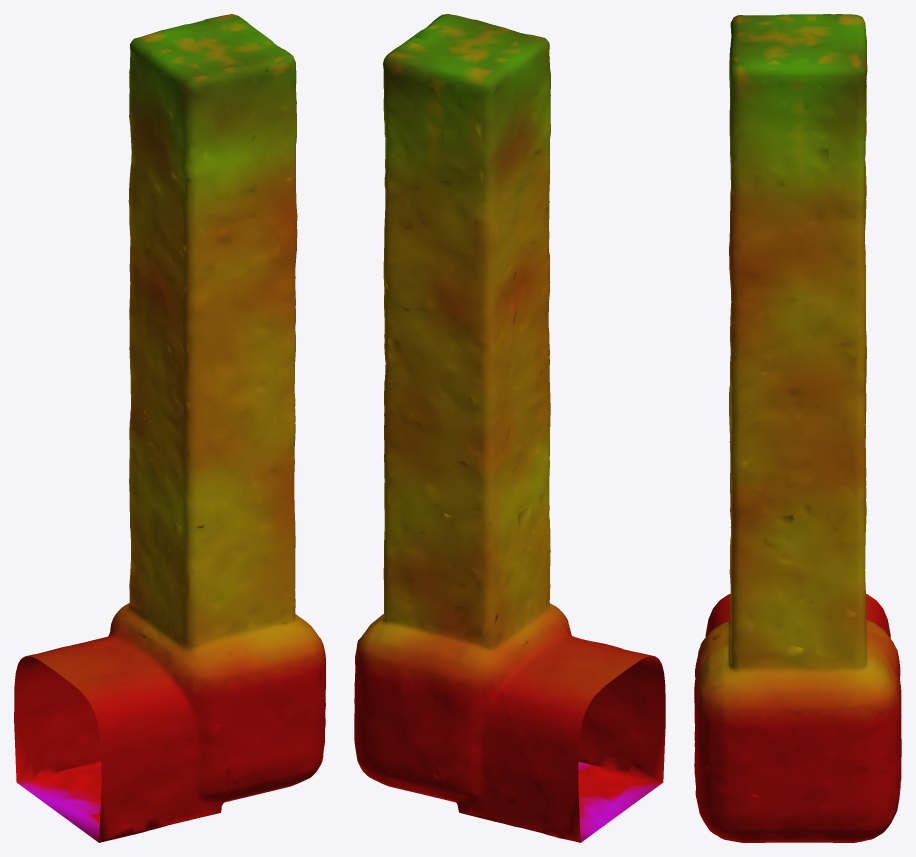
The model's file is SM_MineShaft_Bottom.fbx.
3 renders of one model, left to right at view 1: azimuth 30°, elevation 25°; view 2: azimuth 150°, elevation 25°; view 3: azimuth 270°, elevation 25°, orthographic. The views are drawn at different scales.
Parts seen in each view (by area): view 1: SM_MineShaft_Bottom; view 2: SM_MineShaft_Bottom; view 3: SM_MineShaft_Bottom.
Part boxes in pixels (left/top/right/bottom): SM_MineShaft_Bottom: left=14, top=14, right=325, bottom=842; SM_MineShaft_Bottom: left=354, top=14, right=665, bottom=842; SM_MineShaft_Bottom: left=694, top=14, right=901, bottom=842.
Size of the model in its own units: 4.97 by 14.62 by 3.53.
